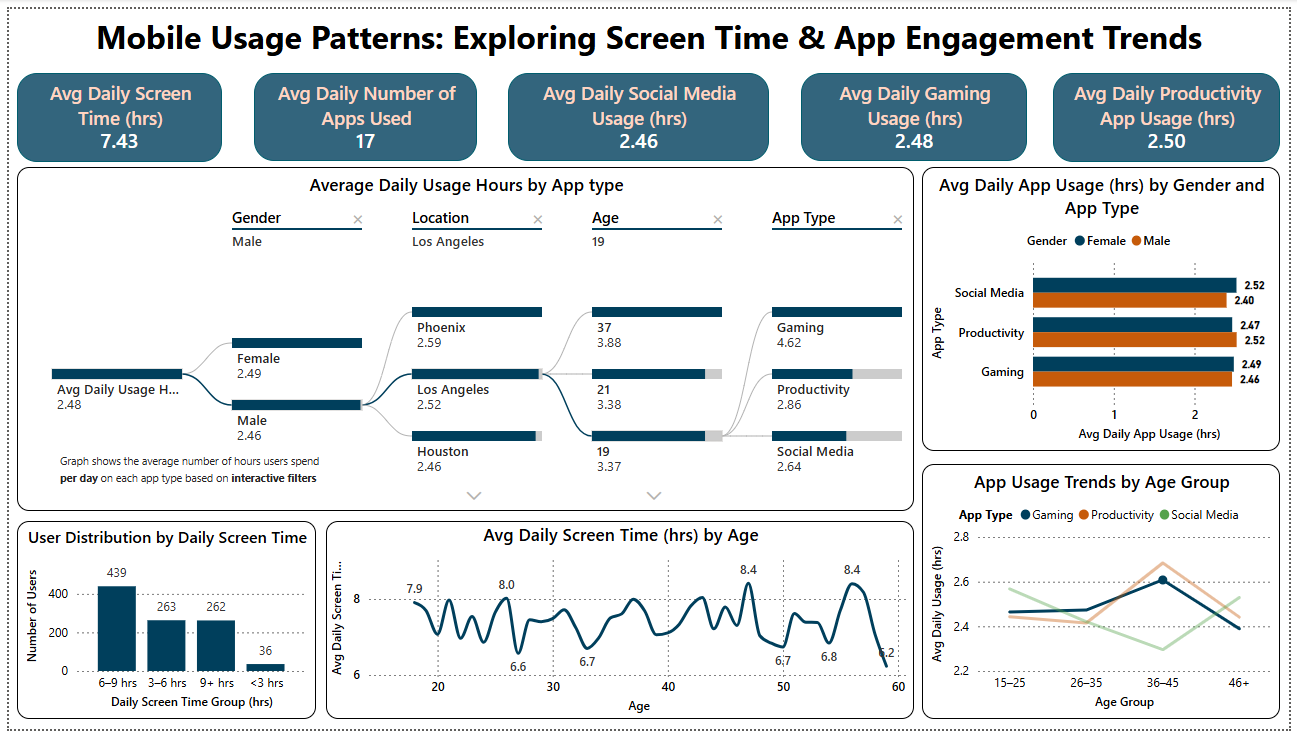

The dashboard page shown, as its layout file describes it:
{"tool":"powerbi","page":{"name":"Page 1","canvas":[1280,720],"ordinal":0},"visuals":[{"type":"textbox","box":[0,0,1280,75.8],"z":0},{"type":"decompositionTreeVisual","title":"Average Daily Usage Hours by App type","fields":{"ExplainBy":["mobile_usage_behavioral_analysis.Gender","mobile_usage_behavioral_analysis.Location","mobile_usage_behavioral_analysis.Age","App_Usage_By_Type.App_Usage_Type"],"Analyze":["App_Usage_By_Type.Avg Daily Usage Hours by App Type"]},"box":[8.1,157.6,897.3,343.9],"z":0,"group":"g1"},{"type":"card","title":"Avg Daily Screen Time (hrs)","fields":{"Values":["Avg(mobile_usage_behavioral_analysis.Daily_Screen_Time_Hours)"]},"box":[8.1,63.6,205.1,89],"z":1000},{"type":"card","title":"Avg Daily Number of Apps Used","fields":{"Values":["Avg(mobile_usage_behavioral_analysis.Number_of_Apps_Used)"]},"box":[245.4,63.6,223,88.7],"z":2000},{"type":"card","title":"Avg Daily Social Media Usage (hrs)","fields":{"Values":["Avg(mobile_usage_behavioral_analysis.Social_Media_Usage_Hours)"]},"box":[499,63.6,260.6,88.7],"z":3000},{"type":"card","title":"Avg Daily Productivity App Usage (hrs)","fields":{"Values":["Avg(mobile_usage_behavioral_analysis.Productivity_App_Usage_Hours)"]},"box":[1044.2,63.6,226.6,89],"z":4000},{"type":"card","title":"Avg Daily Gaming Usage (hrs)","fields":{"Values":["Avg(mobile_usage_behavioral_analysis.Gaming_App_Usage_Hours)"]},"box":[791.6,63.6,226.6,88.7],"z":5000},{"type":"lineChart","title":"Avg Daily Screen Time (hrs) by Age","fields":{"Y":["Avg(mobile_usage_behavioral_analysis.Daily_Screen_Time_Hours)"],"Category":["mobile_usage_behavioral_analysis.Age (bins)"]},"box":[317,512.2,588.4,197.9],"z":6000},{"type":"clusteredColumnChart","title":"User Distribution by Daily Screen Time","fields":{"Category":["mobile_usage_behavioral_analysis.ScreenTimeGroup"],"Y":["CountNonNull(mobile_usage_behavioral_analysis.User_ID)"]},"box":[8.1,512.2,299.1,197.9],"z":7000},{"type":"clusteredBarChart","title":"Avg Daily App Usage (hrs) by Gender and App Type","fields":{"Category":["App_Usage_By_Type.App Type"],"Y":["Avg(App_Usage_By_Type.Usage_Hours)"],"Series":["GenderLookup.Gender"]},"box":[913.4,157.6,357.3,284.8],"z":8000},{"type":"lineChart","title":"App Usage Trends by Age Group","fields":{"Y":["Avg(App_Usage_By_Type.Usage_Hours)"],"Series":["App_Usage_By_Type.App Type"],"Category":["App_Usage_By_Type.Age_Group"]},"box":[913.4,454.9,357.3,255.2],"z":9000},{"type":"textbox","box":[45.9,436.5,281.6,61.4],"z":11000,"group":"g1"},{"type":"group","id":"g1","title":"Group 1","box":[8.1,157.6,897.3,343.9],"z":11001}]}

Visuals, with their boxes in screenshot pixels (x1, y1, x2, y2), scaled from the page's 1280x720 canvas onto the 1297x737 screenshot:
textbox: locate(0, 0, 1296, 78)
"Average Daily Usage Hours by App type" decompositionTreeVisual: locate(8, 161, 917, 513)
"Avg Daily Screen Time (hrs)" card: locate(8, 65, 216, 156)
"Avg Daily Number of Apps Used" card: locate(249, 65, 475, 156)
"Avg Daily Social Media Usage (hrs)" card: locate(506, 65, 770, 156)
"Avg Daily Productivity App Usage (hrs)" card: locate(1058, 65, 1288, 156)
"Avg Daily Gaming Usage (hrs)" card: locate(802, 65, 1032, 156)
"Avg Daily Screen Time (hrs) by Age" lineChart: locate(321, 524, 917, 727)
"User Distribution by Daily Screen Time" clusteredColumnChart: locate(8, 524, 311, 727)
"Avg Daily App Usage (hrs) by Gender and App Type" clusteredBarChart: locate(926, 161, 1288, 453)
"App Usage Trends by Age Group" lineChart: locate(926, 466, 1288, 727)
textbox: locate(47, 447, 332, 510)
"Group 1" group: locate(8, 161, 917, 513)
